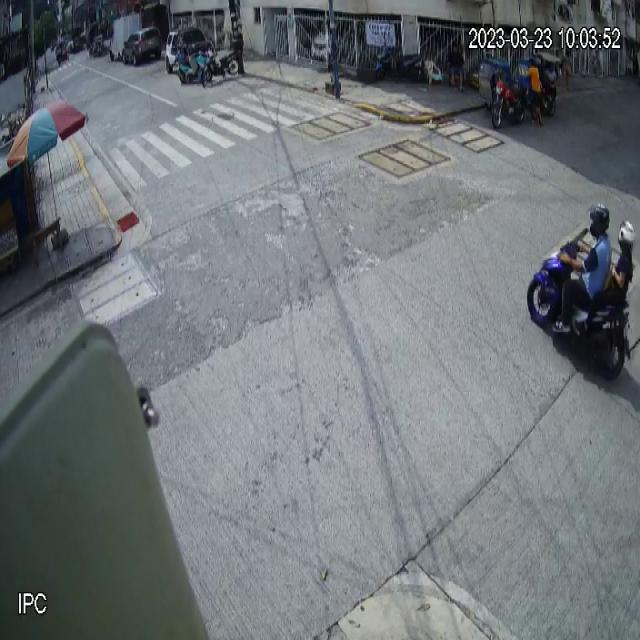Motorcycle: (526, 227, 634, 383)
Tricycle: (478, 57, 525, 129)
